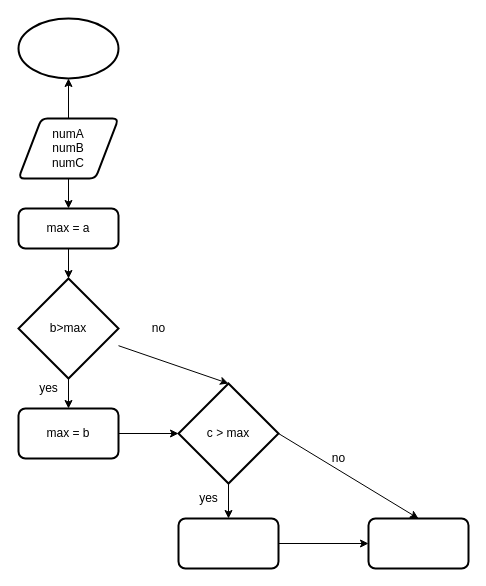
This 486x586 diagram has some shape labels left out. The centre of each missing label's shape, as x and y in pixels:
"max = c" belongs at [228,543].
"print max" belongs at [418,543].
"start" belongs at [68,48].
